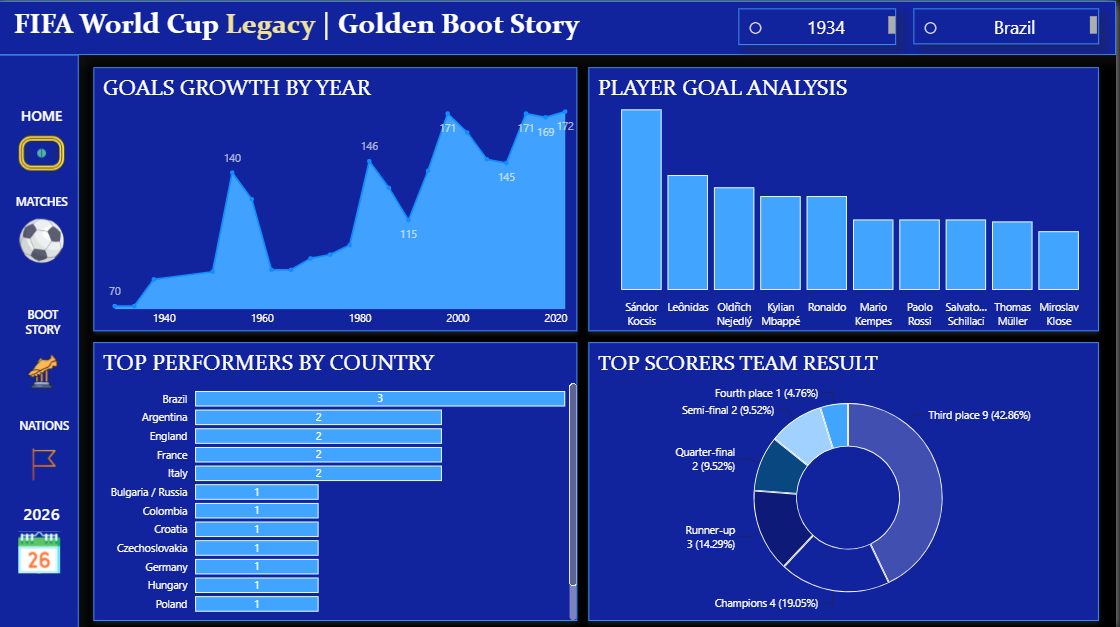

The page's visual inventory and layout, read from the dashboard file:
{"tool":"powerbi","page":{"name":"Golden Boot Story","canvas":[1280,720],"ordinal":2},"visuals":[{"type":"lineChart","title":"GOALS GROWTH BY YEAR","fields":{"Category":["fifa_football editions.year"],"Y":["Sum(fifa_football editions.goals)"]},"box":[111.4,75.7,552.9,301.4],"z":0},{"type":"clusteredBarChart","title":"TOP PERFORMERS BY COUNTRY","fields":{"Category":["fifa_football editions.top_scorer_country"],"Y":["CountNonNull(fifa_football editions.top_scorer)"]},"box":[111.4,390,552.9,318.6],"z":1000},{"type":"donutChart","title":"TOP SCORERS TEAM RESULT","fields":{"Category":["fifa_football scorers.team_result"],"Y":["Count(fifa_football scorers.player)"]},"box":[677.1,390,582.9,318.6],"z":2000},{"type":"clusteredColumnChart","title":"PLAYER GOAL ANALYSIS","fields":{"Category":["scorers.player"],"Y":["Sum(scorers.goals_per_match)"]},"box":[677.1,75.7,582.9,301.4],"z":3000},{"type":"textbox","box":[0,0,1280,61.4],"z":10000},{"type":"listSlicer","fields":{"Values":["matches.country"]},"box":[1048.3,8.9,211.8,40.9],"z":11000},{"type":"listSlicer","fields":{"Values":["editions.year"]},"box":[848.6,8.6,180,41.4],"z":12000},{"type":"shape","box":[0,61.4,94.3,658.6],"z":12001},{"type":"actionButton","title":"HOME","box":[21.4,120,61.4,85.7],"z":12002},{"type":"actionButton","title":"MATCHES","box":[21.4,220,61.4,85.7],"z":12003},{"type":"actionButton","title":"BOOT STORY","box":[22.9,348.6,61.4,100],"z":12004},{"type":"actionButton","title":"NATIONS","box":[24.3,475.7,61.4,85.7],"z":12005},{"type":"actionButton","title":"2026","box":[21.4,572.9,61.4,85.7],"z":12006}]}

Visuals, with their boxes in screenshot pixels (x1, y1, x2, y2), scaled from the page's 1280x720 canvas onto the 1120x627 screenshot:
"GOALS GROWTH BY YEAR" lineChart: crop(97, 66, 581, 328)
"TOP PERFORMERS BY COUNTRY" clusteredBarChart: crop(97, 340, 581, 617)
"TOP SCORERS TEAM RESULT" donutChart: crop(592, 340, 1102, 617)
"PLAYER GOAL ANALYSIS" clusteredColumnChart: crop(592, 66, 1102, 328)
textbox: crop(0, 0, 1119, 53)
listSlicer - matches.country: crop(917, 8, 1103, 43)
listSlicer - editions.year: crop(743, 7, 900, 44)
shape: crop(0, 53, 83, 626)
"HOME" actionButton: crop(19, 104, 72, 179)
"MATCHES" actionButton: crop(19, 192, 72, 266)
"BOOT STORY" actionButton: crop(20, 304, 74, 391)
"NATIONS" actionButton: crop(21, 414, 75, 489)
"2026" actionButton: crop(19, 499, 72, 574)
